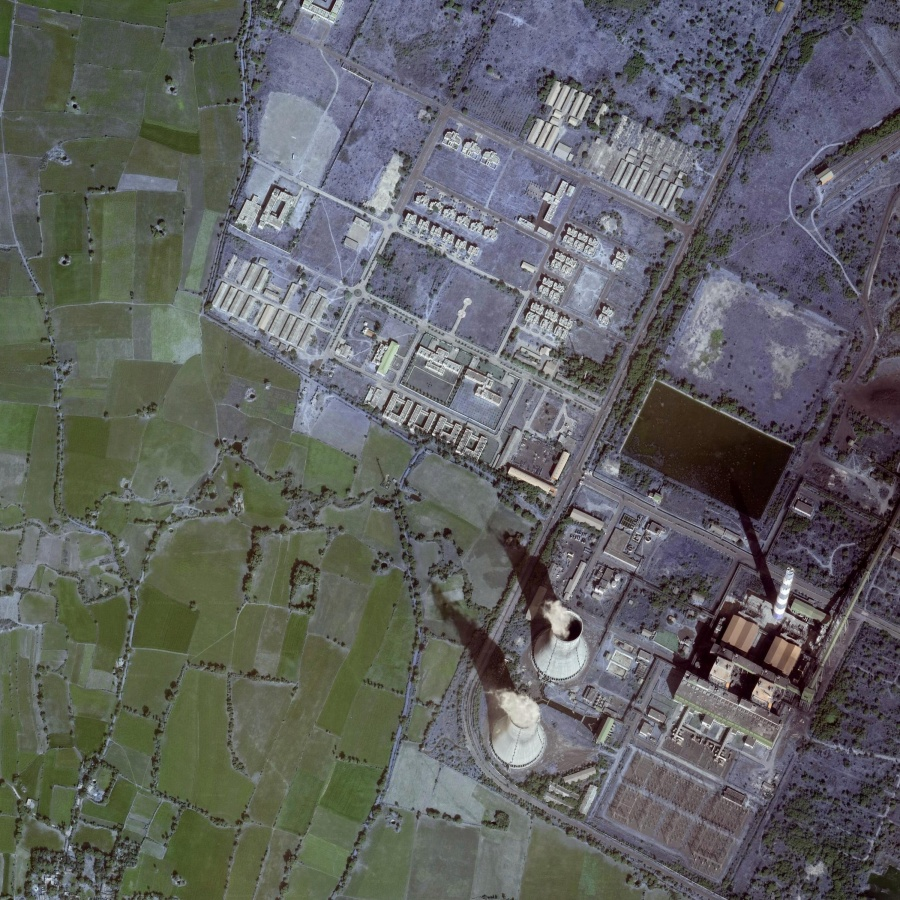PowerPlant: (457, 364, 894, 822)
